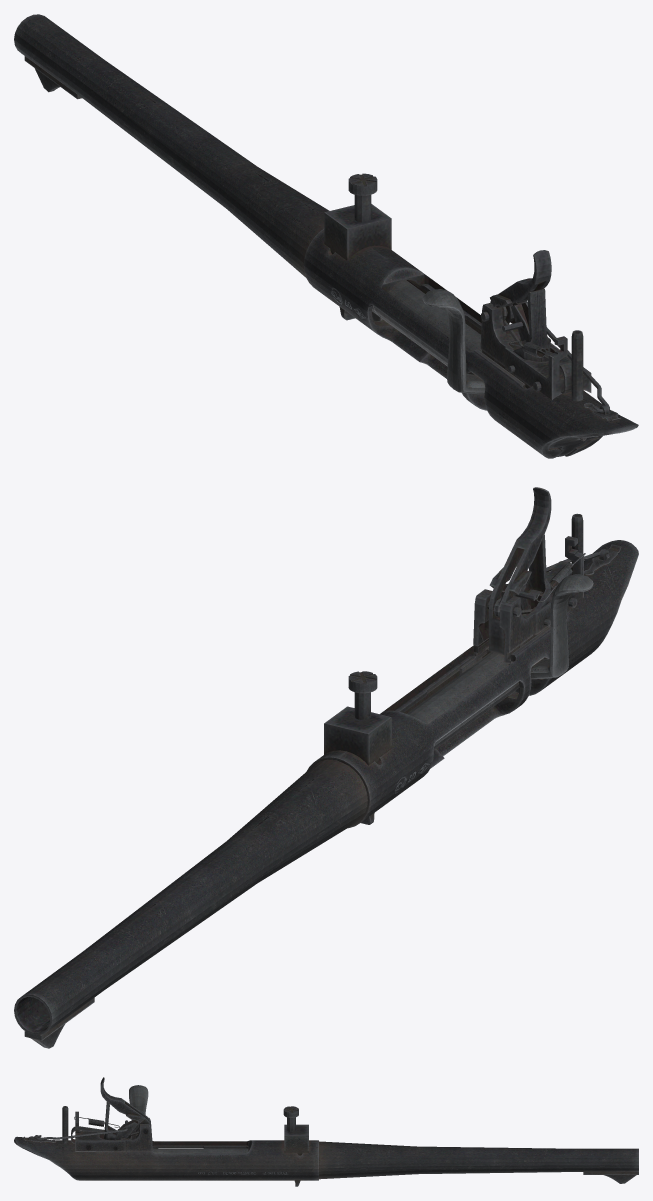
3 renders of one model, top to bottom at view 1: azimuth 30°, elevation 25°; view 2: azimuth 150°, elevation 25°; view 3: azimuth 270°, elevation 25°, orthographic. The views are drawn at different scales.
Parts seen in each view (by area): view 1: TW_5a38e6bac4a2826c6e06d79b_PZ_Import; view 2: TW_5a38e6bac4a2826c6e06d79b_PZ_Import; view 3: TW_5a38e6bac4a2826c6e06d79b_PZ_Import.
Part boxes in pixels (bbox=[...]): TW_5a38e6bac4a2826c6e06d79b_PZ_Import: bbox=[14, 14, 638, 458]; TW_5a38e6bac4a2826c6e06d79b_PZ_Import: bbox=[14, 487, 638, 1048]; TW_5a38e6bac4a2826c6e06d79b_PZ_Import: bbox=[14, 1077, 638, 1186].
Size of the model in its own units: 0.0331 by 0.2936 by 0.0546.
1 material, 1 textured.
